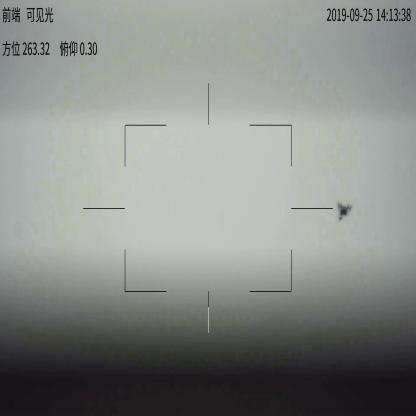uav: (337, 197, 353, 224)
